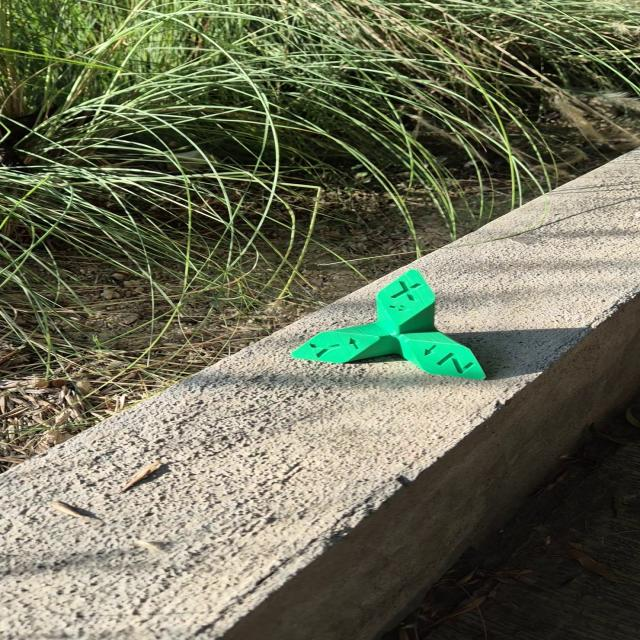objects: (289, 268, 490, 383)
